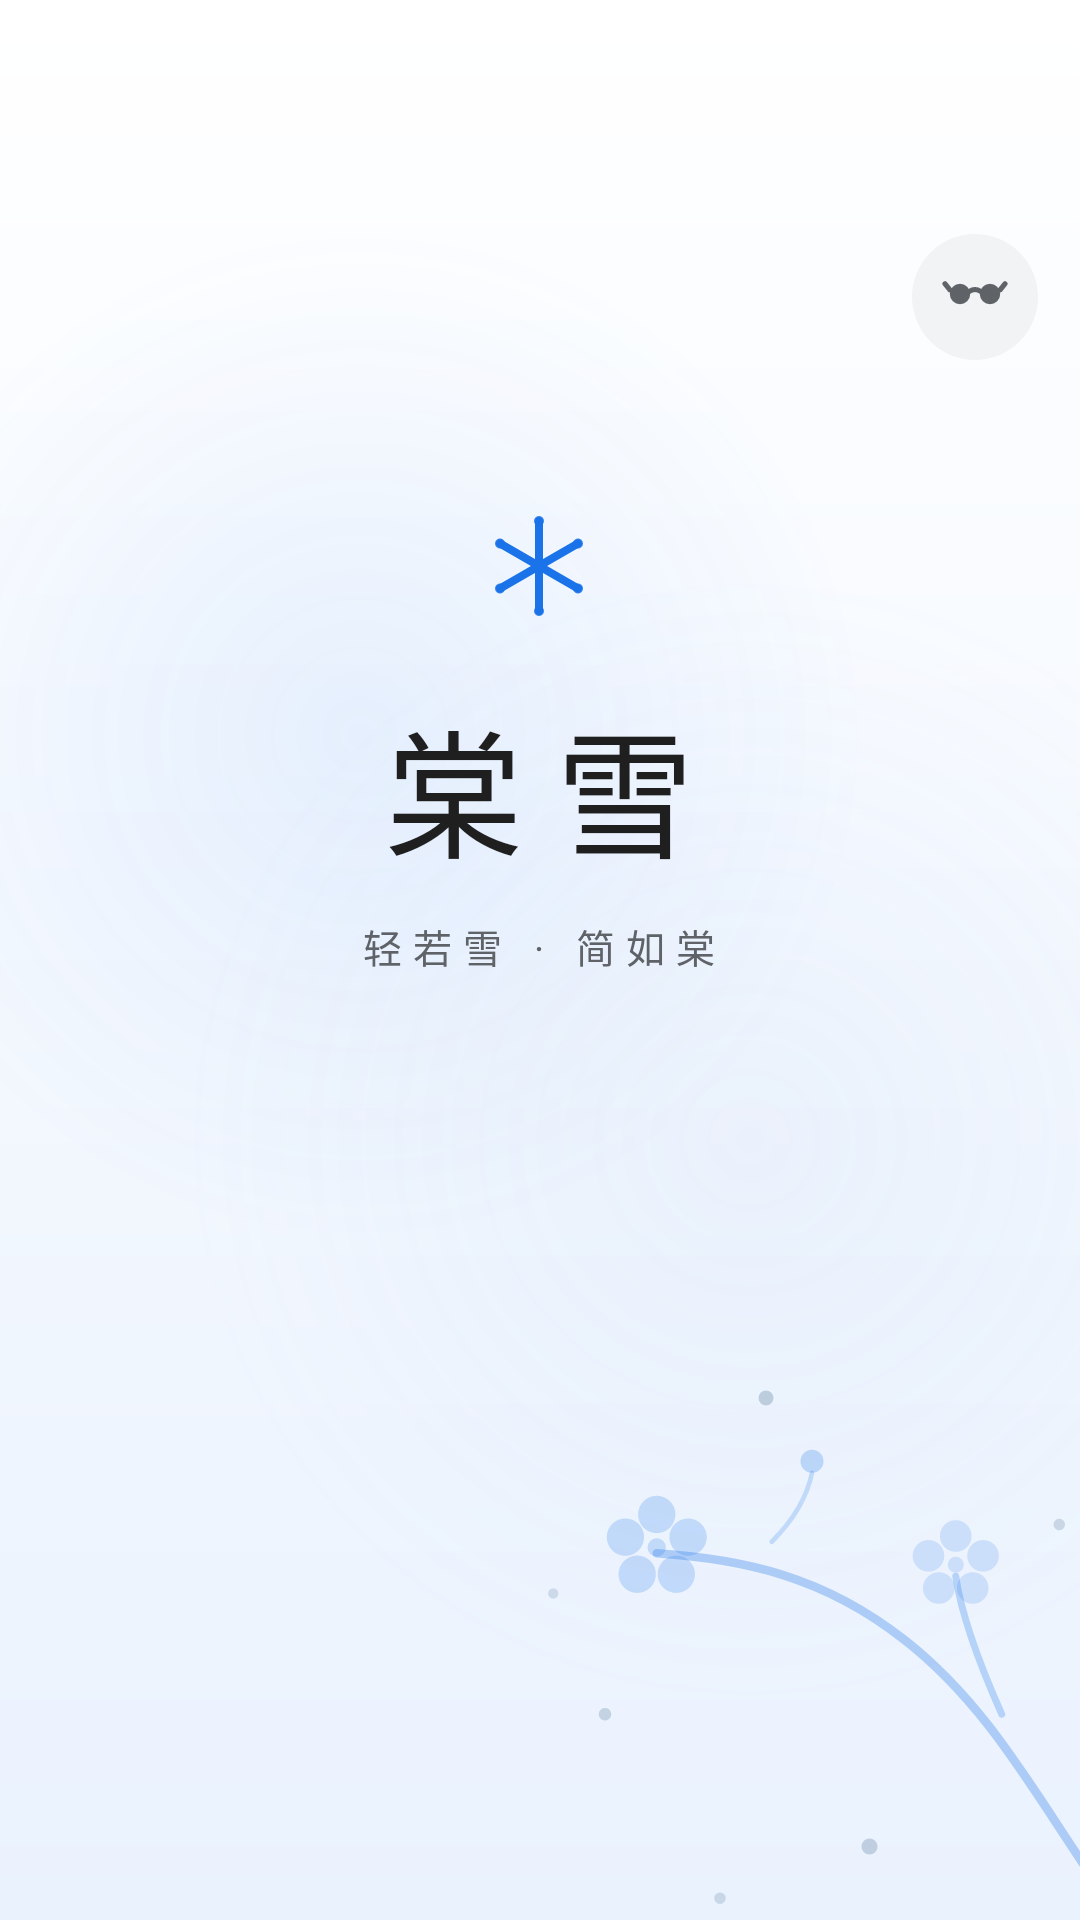

Point at icon controls on the screen. Image size 1080px x 1920px, points as (x,y).
无痕浏览: (975,293)
